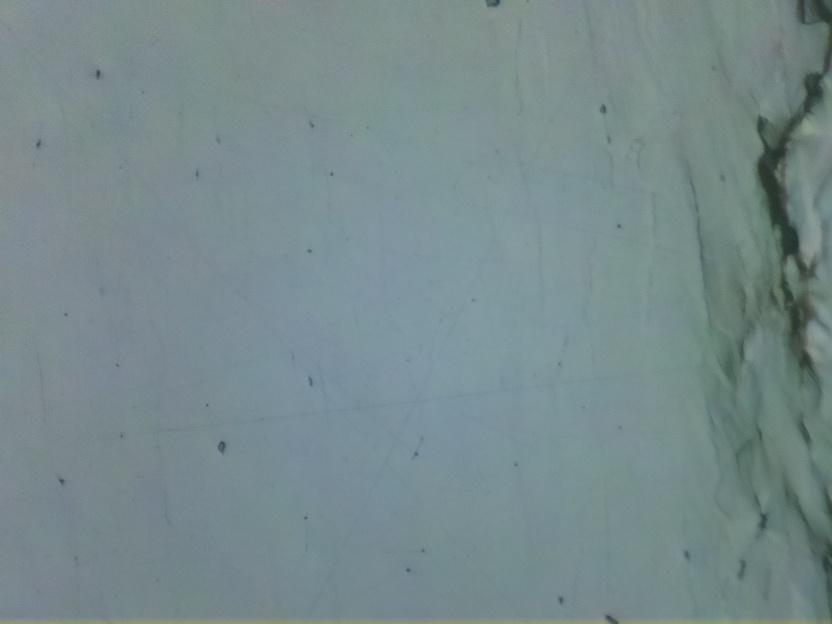crack: (755, 0, 832, 368)
